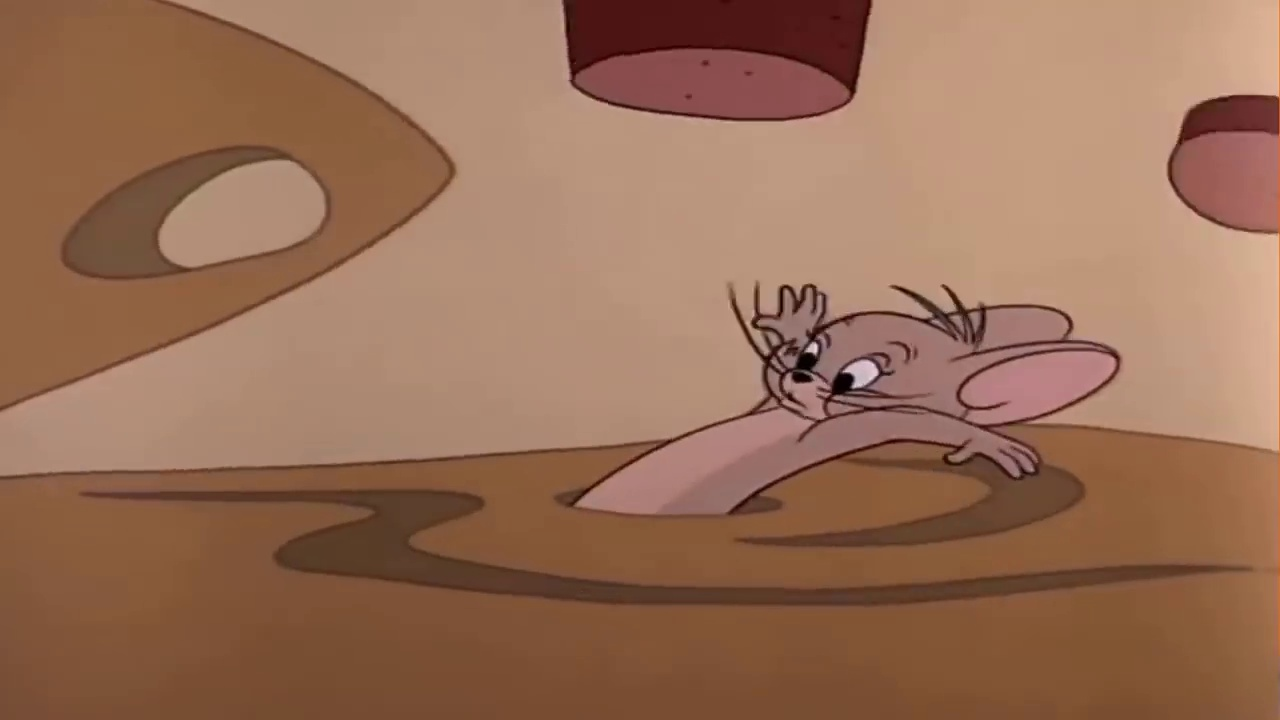face: (777, 319, 914, 417)
